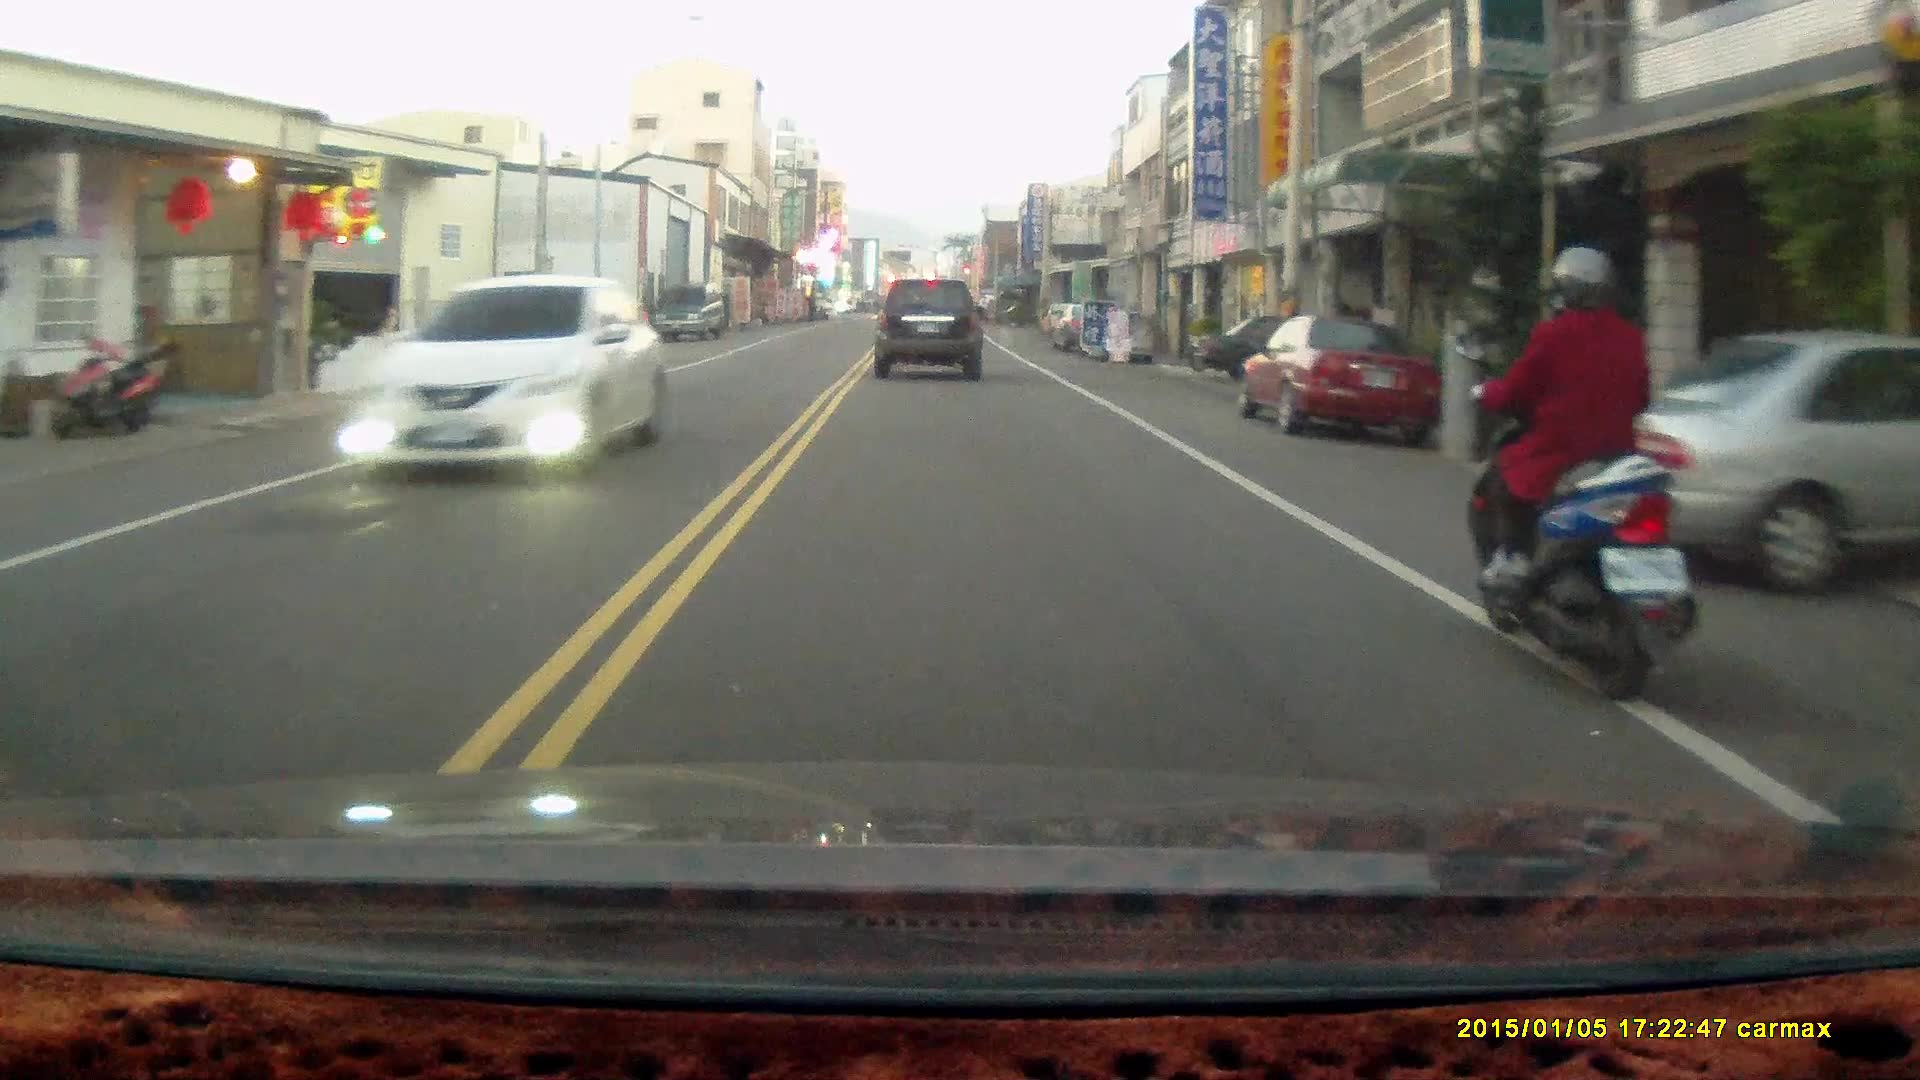rider: (1460, 242, 1707, 713)
vehicle: (1554, 335, 1920, 605), (339, 273, 671, 477), (1236, 309, 1445, 445), (1188, 313, 1389, 380), (876, 275, 987, 382), (656, 285, 727, 343)
